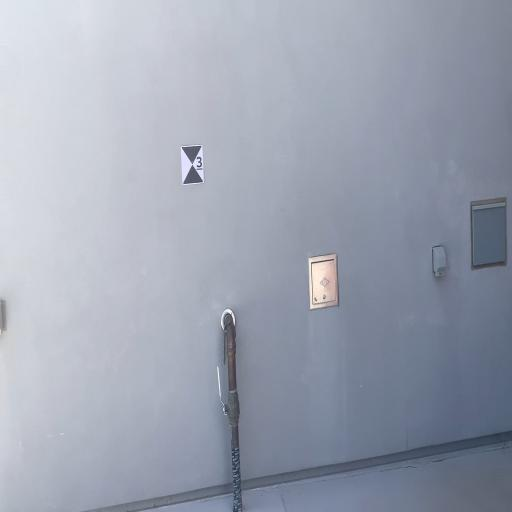target3: (180, 144, 204, 185)
